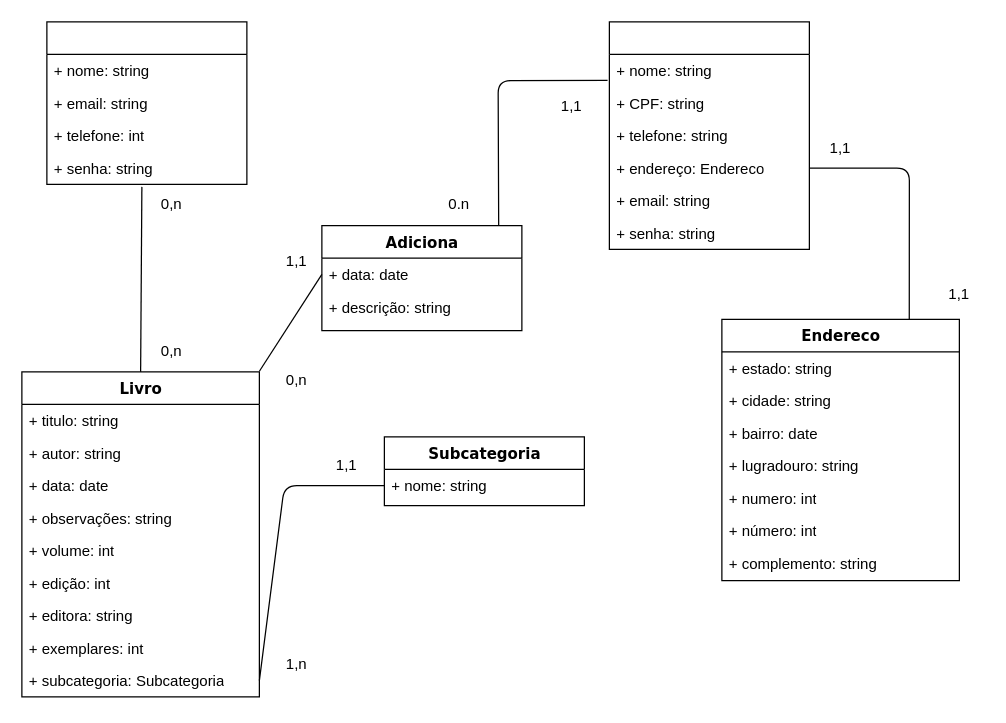
This 1006x723 diagram has some shape labels left out. The shapes that lost their labels are listed below. From the top down, each one's box as (x1, y1, x2, y2) in pixels, then its label:
(46, 21, 247, 184): Usuario
(608, 21, 809, 249): Moderador
